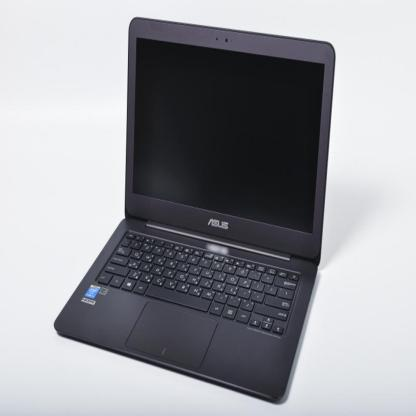board: (53, 12, 335, 406)
